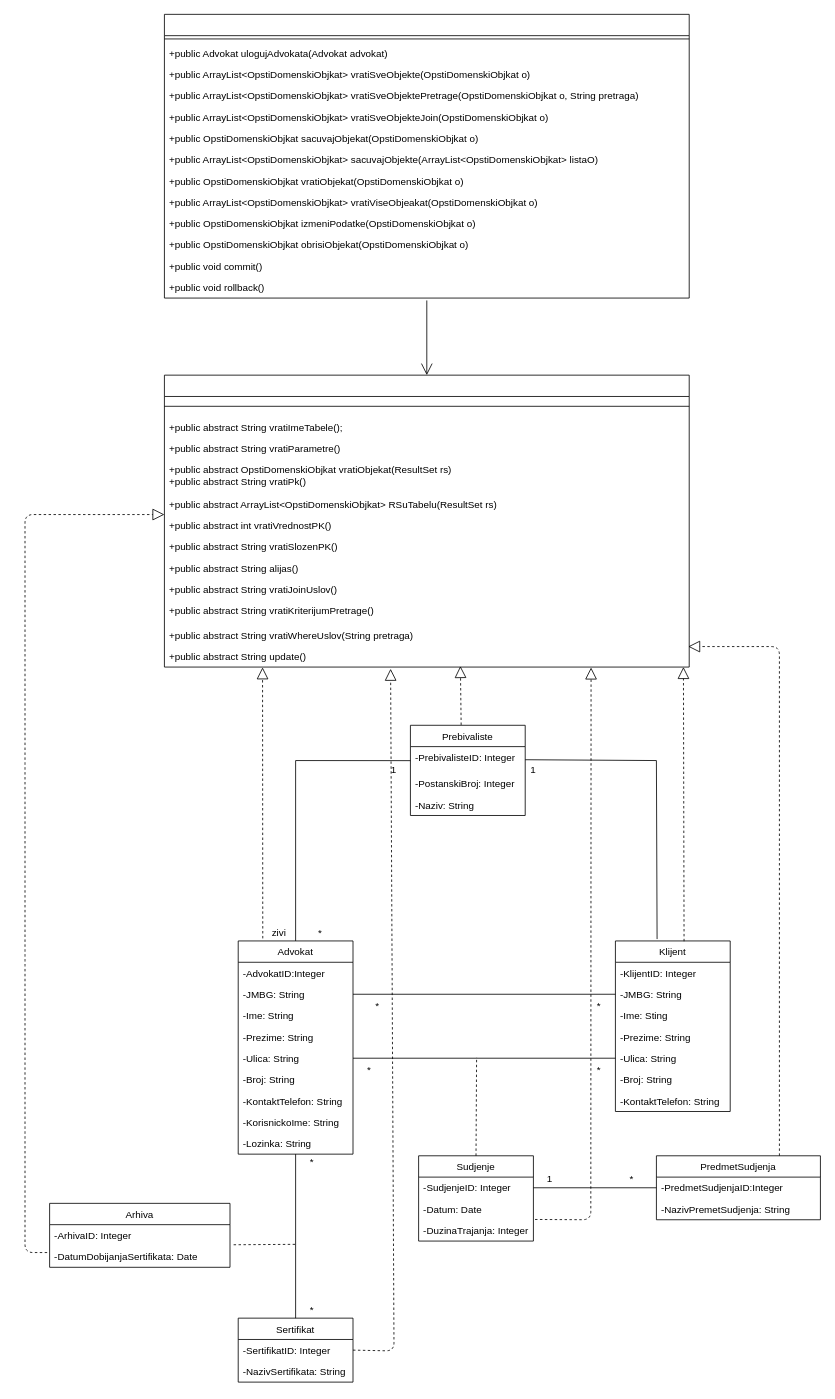
The diagram is 835 pixels wide and 1399 high, and some of its shapes have lost their labels. The shapes that lost their labels are listed below. From the top down, each one's box as (x1, y1, x2, y2) in pixels, then its label:
(164, 14, 689, 298): DBBroker
(164, 374, 689, 667): OpstiDomenskiObjekat
